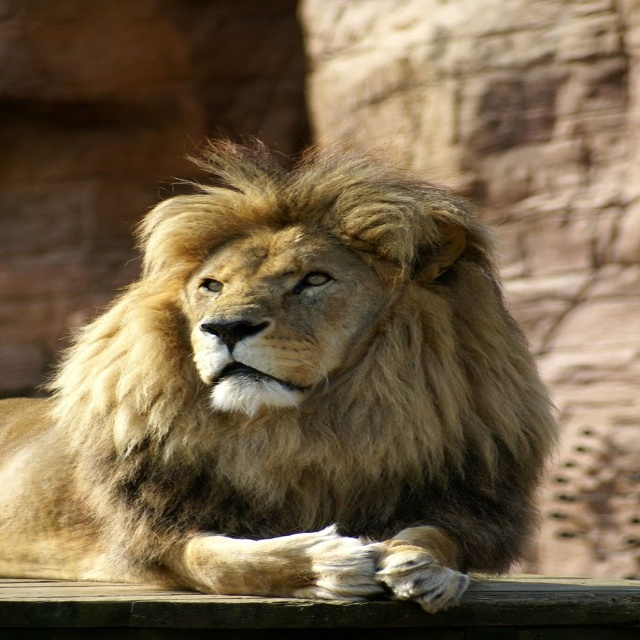Lion: (0, 126, 561, 612)
